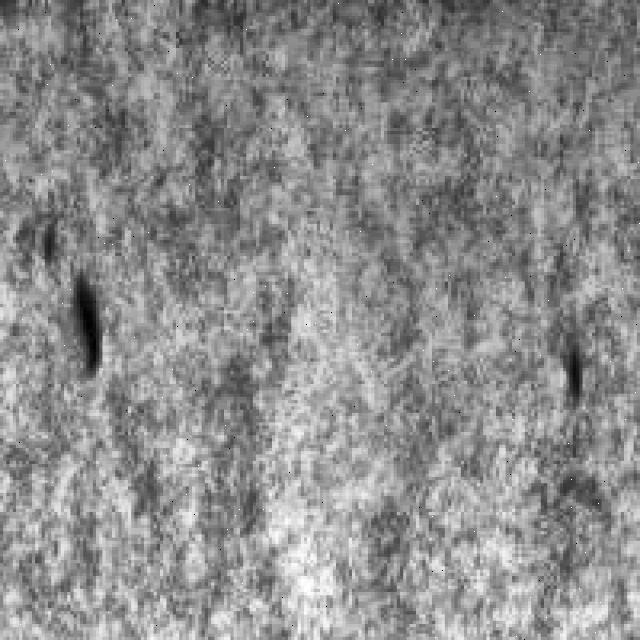Patches: (42, 221, 112, 371), (564, 332, 598, 422)
